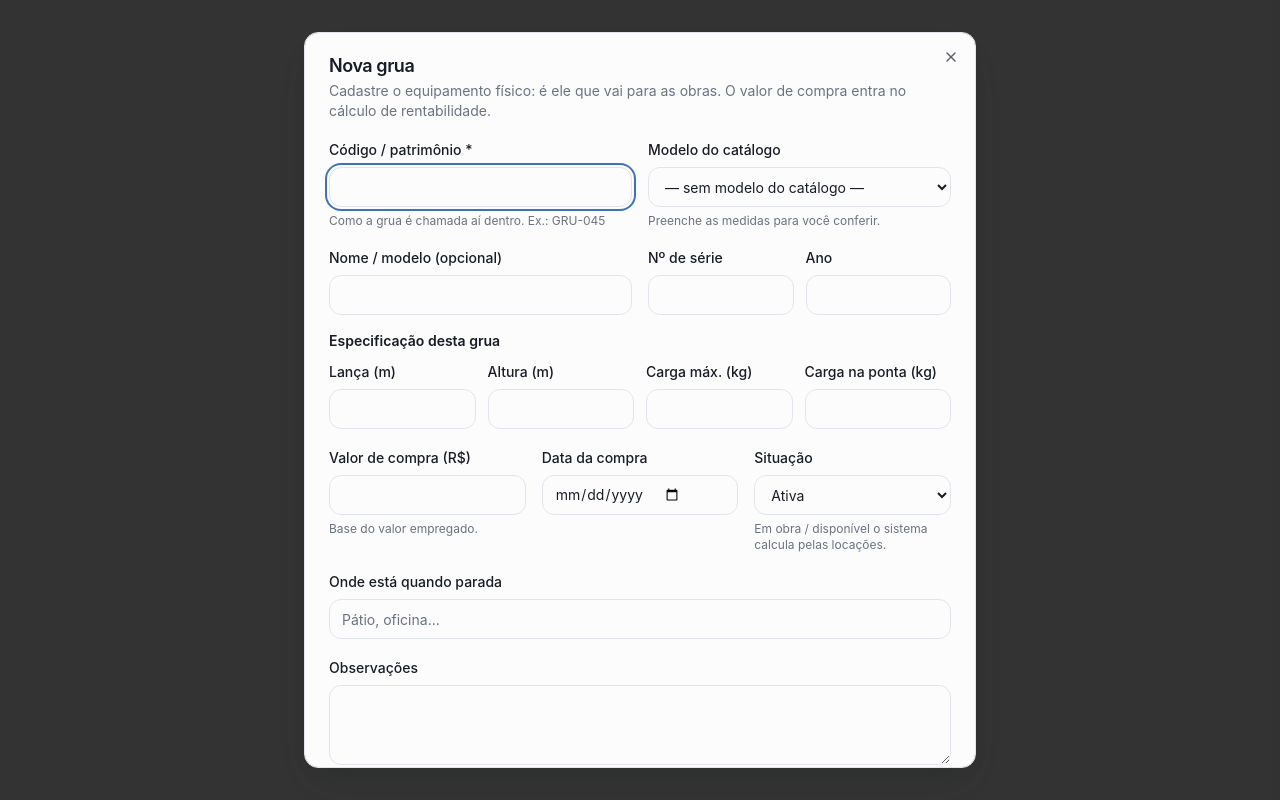
it: cadastrar grua › número inválido e ano fora do possível bloqueiam
Type "GRU-9" into the field labelled "Código / patrimônio *" at (480, 187), box [329,167,632,207]
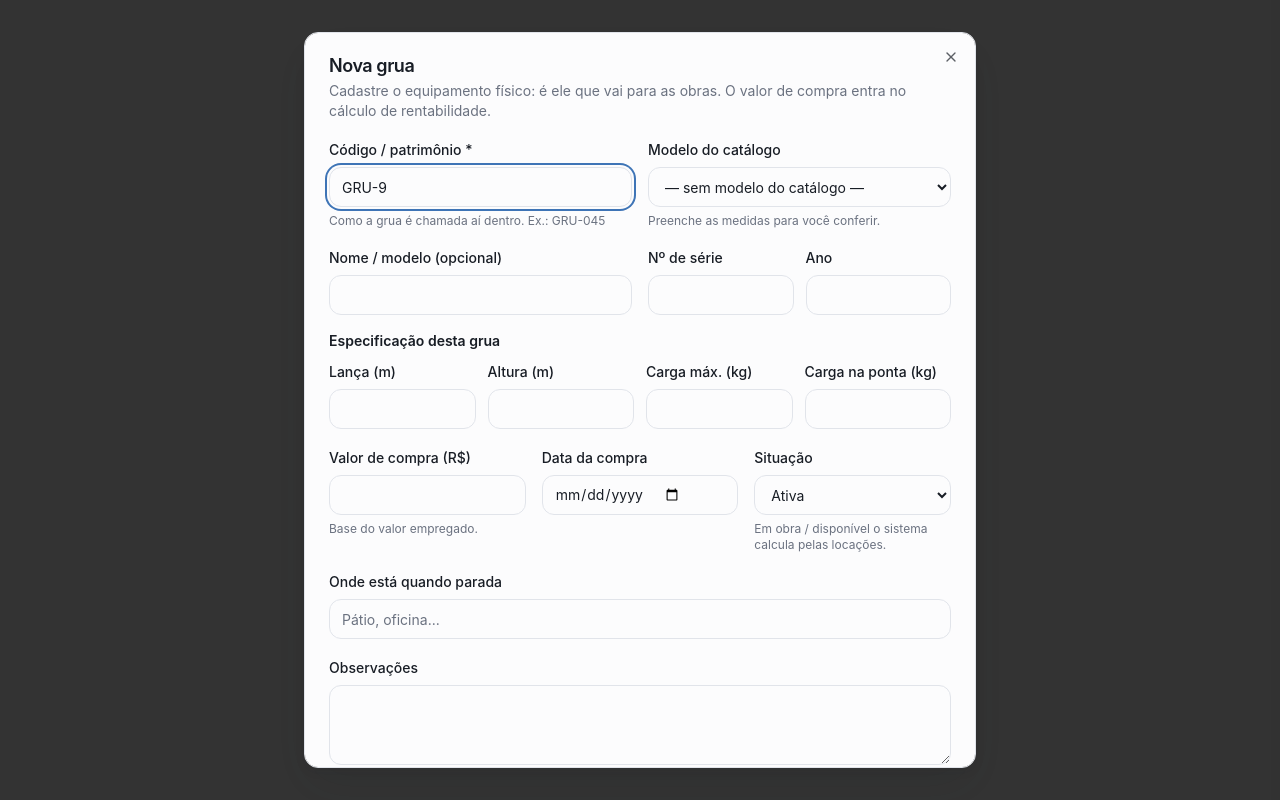
Type "abc" into the field labelled "Lança (m)" at (402, 409), box [329,389,476,429]
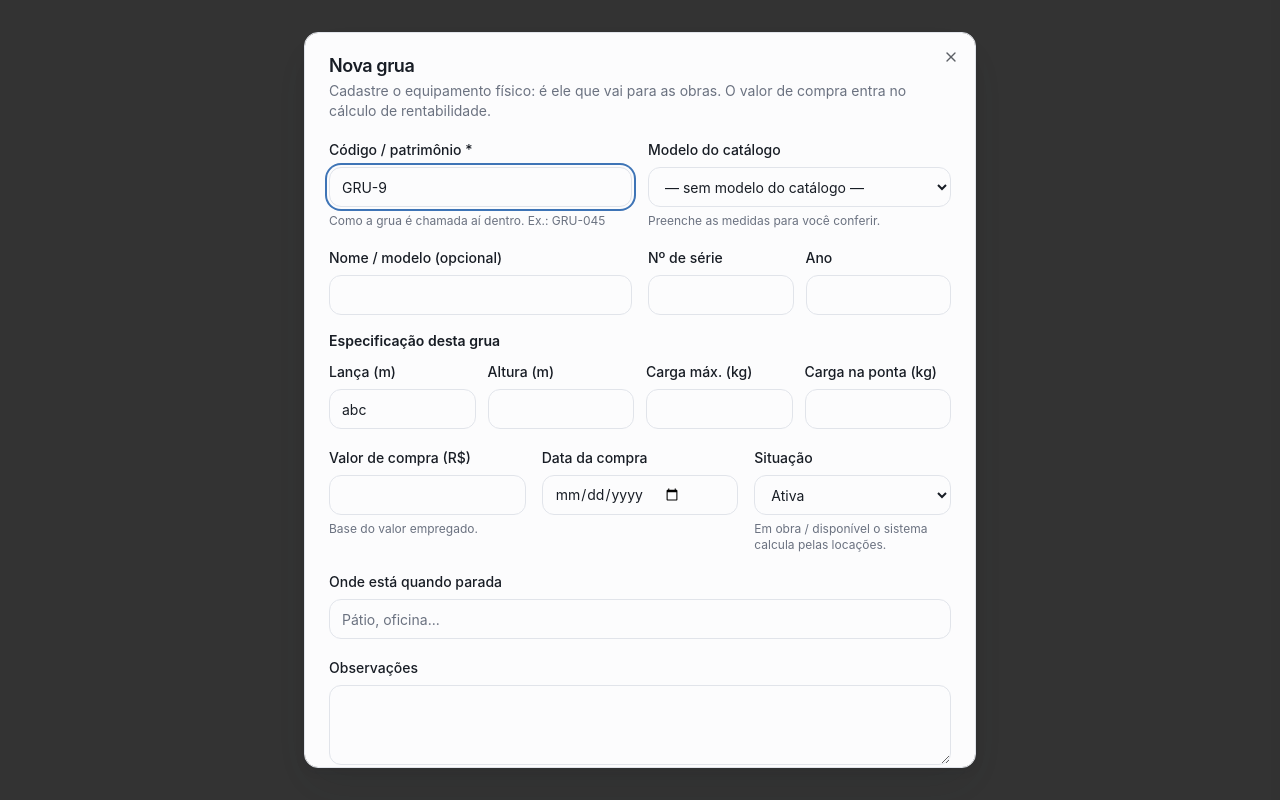
Type "1800" into the field labelled "Ano" at (878, 295), box [806,275,951,315]
(page scrolled)
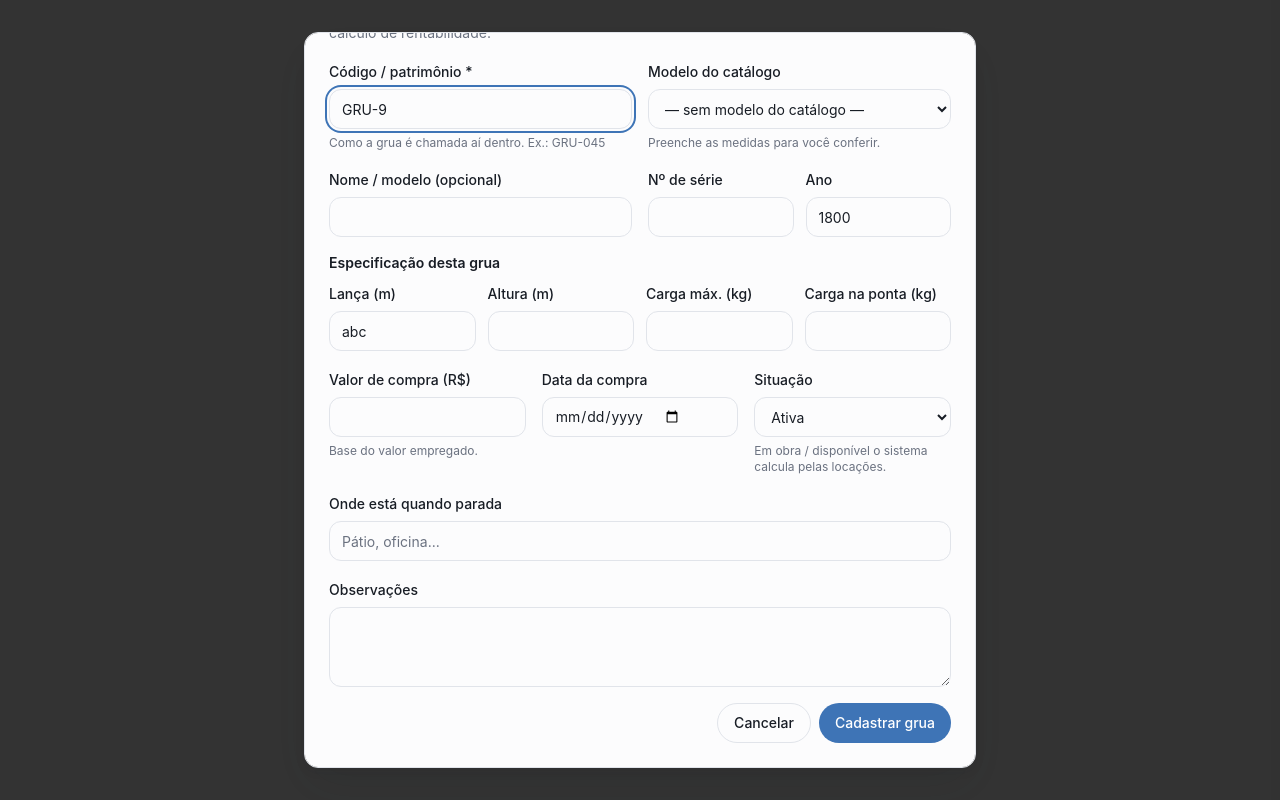
Click the button "Cadastrar grua" at (885, 723), box [819,703,951,743]
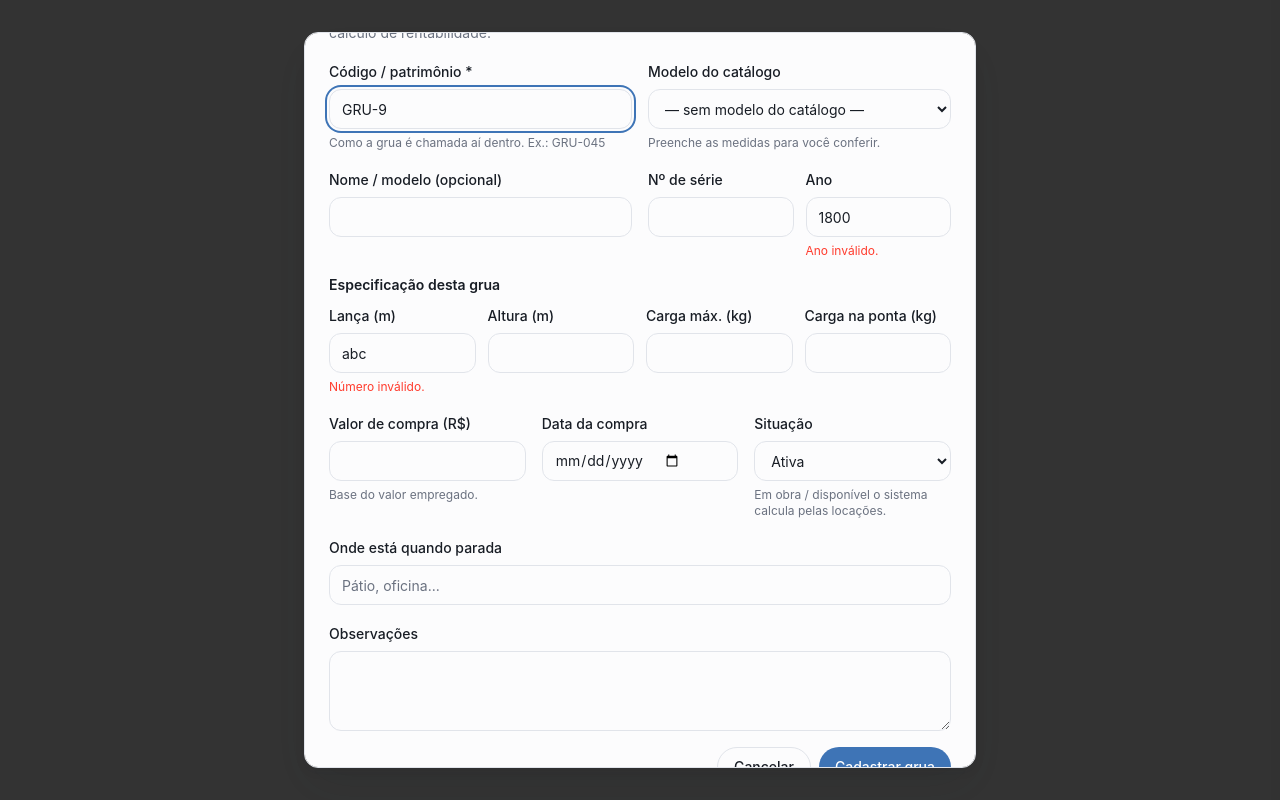
Expected: the text "Ano inválido." is shown, [806,243,878,258]
Expected: the text "Número inválido." is shown once, [329,379,425,394]
